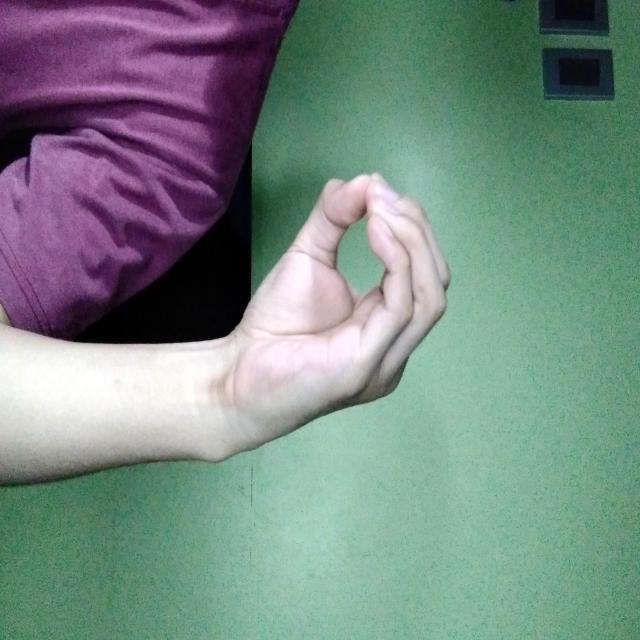O: (167, 186, 446, 414)
